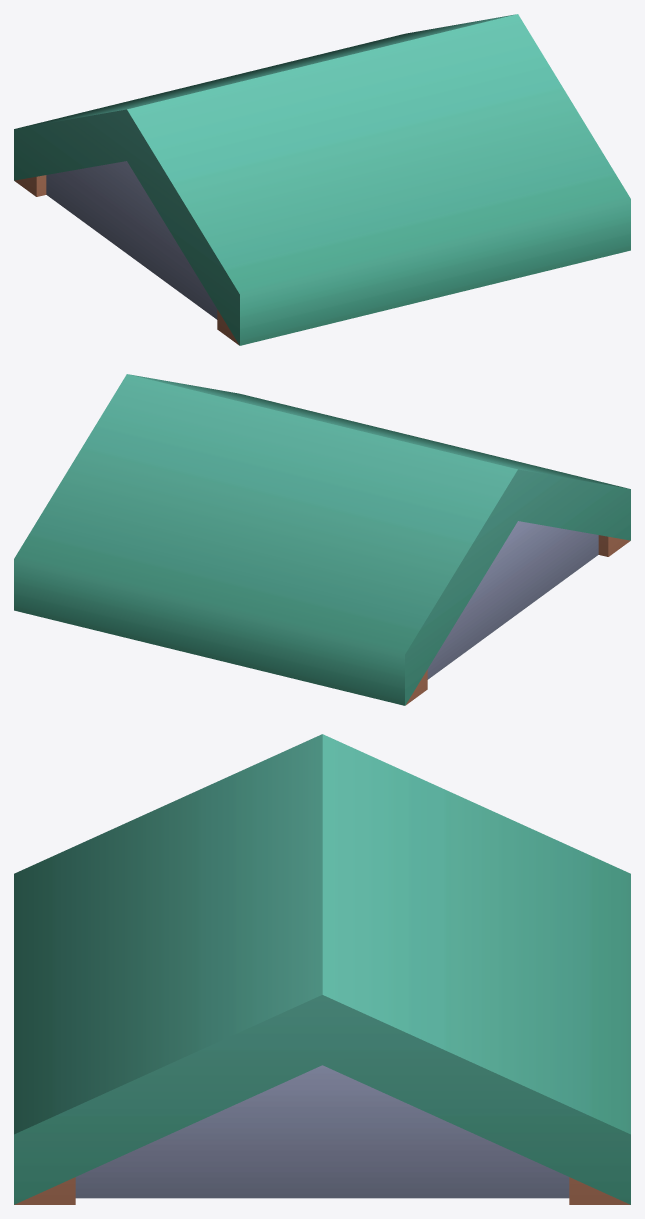
Rendered from roof-gable-top.glb.
The picture shows the model from 3 angles, top to bottom: view 1: azimuth 30°, elevation 25°; view 2: azimuth 150°, elevation 25°; view 3: azimuth 270°, elevation 25°; orthographic projection. The views are drawn at different scales.
Visible parts, largest first — view 1: roof-gable-top; view 2: roof-gable-top; view 3: roof-gable-top.
Boxes of the visible parts, bbox=[...] form: roof-gable-top: bbox=[14, 14, 630, 345]; roof-gable-top: bbox=[14, 374, 630, 705]; roof-gable-top: bbox=[14, 734, 630, 1204].
Size of the model in its own units: 1 by 0.3759 by 1.
Materials: 1 (1 with a texture image).
